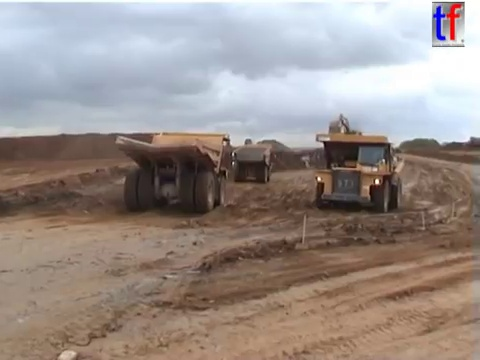excavator: (323, 112, 364, 151)
truck: (113, 130, 231, 214), (312, 131, 403, 214), (230, 143, 277, 184)
